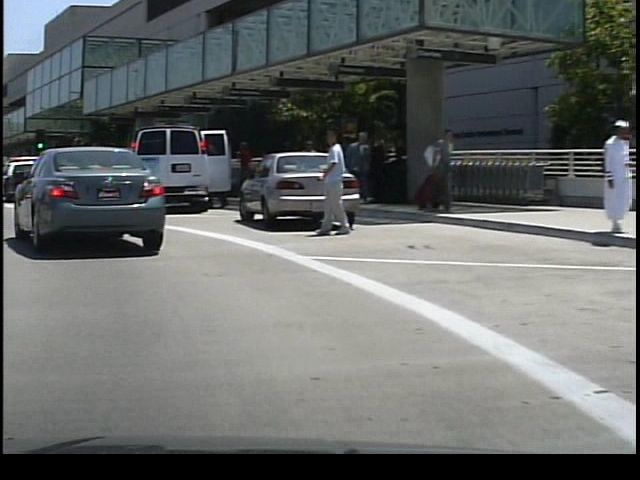person: (591, 117, 630, 234), (309, 124, 349, 238), (416, 123, 451, 215), (346, 126, 376, 210), (229, 137, 253, 203)
